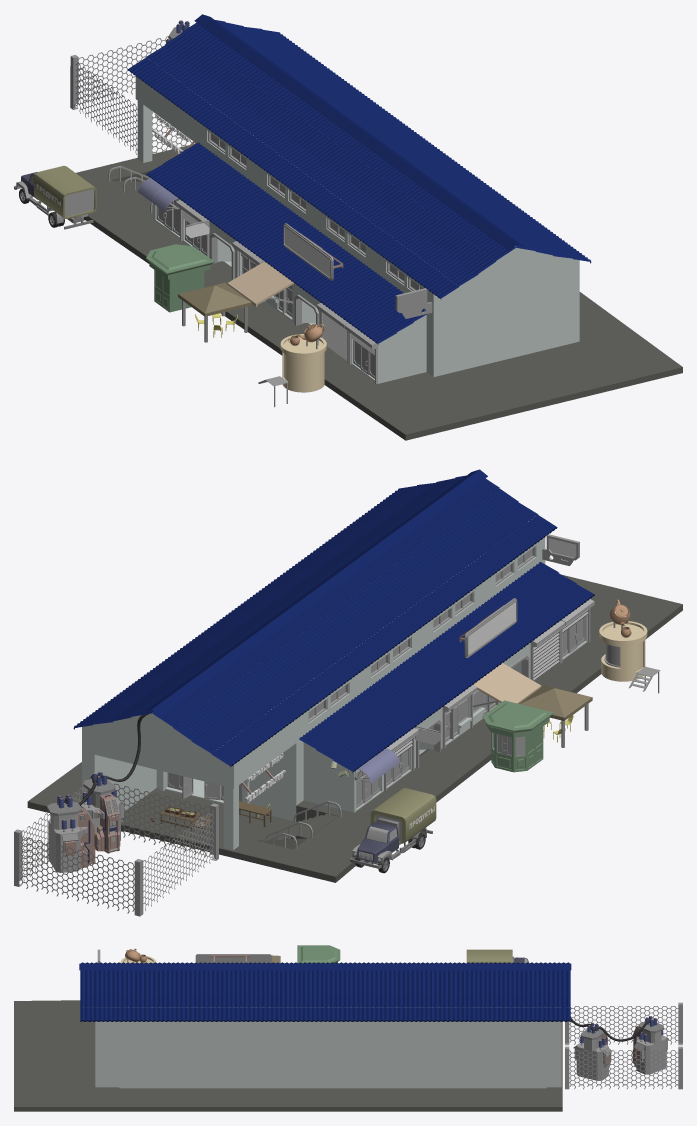
File: rynok.fbx
The picture shows the model from 3 angles, top to bottom: view 1: azimuth 30°, elevation 25°; view 2: azimuth 150°, elevation 25°; view 3: azimuth 270°, elevation 25°; orthographic projection. The views are drawn at different scales.
Parts seen in each view (by area): view 1: Rynok.003, Landscape.001, Truck, HoneyComb.001, Kiosk.001, Tea_time, umbrella, umbrella.001, billboard.011, defense.001, billboard.012, Naves (+2 smaller); view 2: Rynok.003, Landscape.001, HoneyComb.001, Truck, Kiosk.001, Tea_time, electro.001, electro.002, umbrella.001, umbrella, billboard.011, defense.001 (+4 smaller); view 3: Rynok.003, Landscape.001, HoneyComb.001, electro.001, electro.002, Kiosk.001, Truck, billboard.011, Tea_time, wire.
Part boxes in pixels (box(x1,y1,x2,y2)): Rynok.003: box(127, 14, 591, 383); Landscape.001: box(76, 144, 682, 440); Truck: box(14, 165, 96, 229); HoneyComb.001: box(70, 36, 195, 154); Kiosk.001: box(146, 244, 214, 312); Tea_time: box(258, 324, 326, 407); umbrella: box(178, 282, 251, 342); umbrella.001: box(227, 261, 294, 306); billboard.011: box(283, 223, 343, 280); defense.001: box(317, 303, 348, 363); billboard.012: box(395, 288, 432, 318); Naves: box(138, 178, 179, 211); Rynok.003: box(73, 469, 594, 850); Landscape.001: box(27, 575, 682, 882); HoneyComb.001: box(14, 774, 218, 916); Truck: box(350, 788, 436, 873); Kiosk.001: box(482, 700, 553, 772); Tea_time: box(599, 599, 660, 693); electro.001: box(47, 794, 95, 872); electro.002: box(79, 771, 125, 853); umbrella.001: box(473, 663, 541, 707); umbrella: box(519, 685, 592, 747); billboard.011: box(459, 598, 517, 658); defense.001: box(530, 620, 565, 680); Rynok.003: box(79, 962, 571, 1088); Landscape.001: box(14, 1000, 562, 1111); HoneyComb.001: box(565, 1002, 682, 1089); electro.001: box(632, 1016, 669, 1074); electro.002: box(573, 1022, 612, 1080); Kiosk.001: box(297, 945, 340, 963); Truck: box(466, 949, 528, 963); billboard.011: box(195, 954, 271, 963); Tea_time: box(120, 948, 156, 963); wire: box(570, 1017, 649, 1041).
Size of the model in its own units: 2757 by 1115 by 6097.
